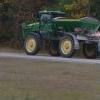Tractor: (15, 7, 100, 60)
